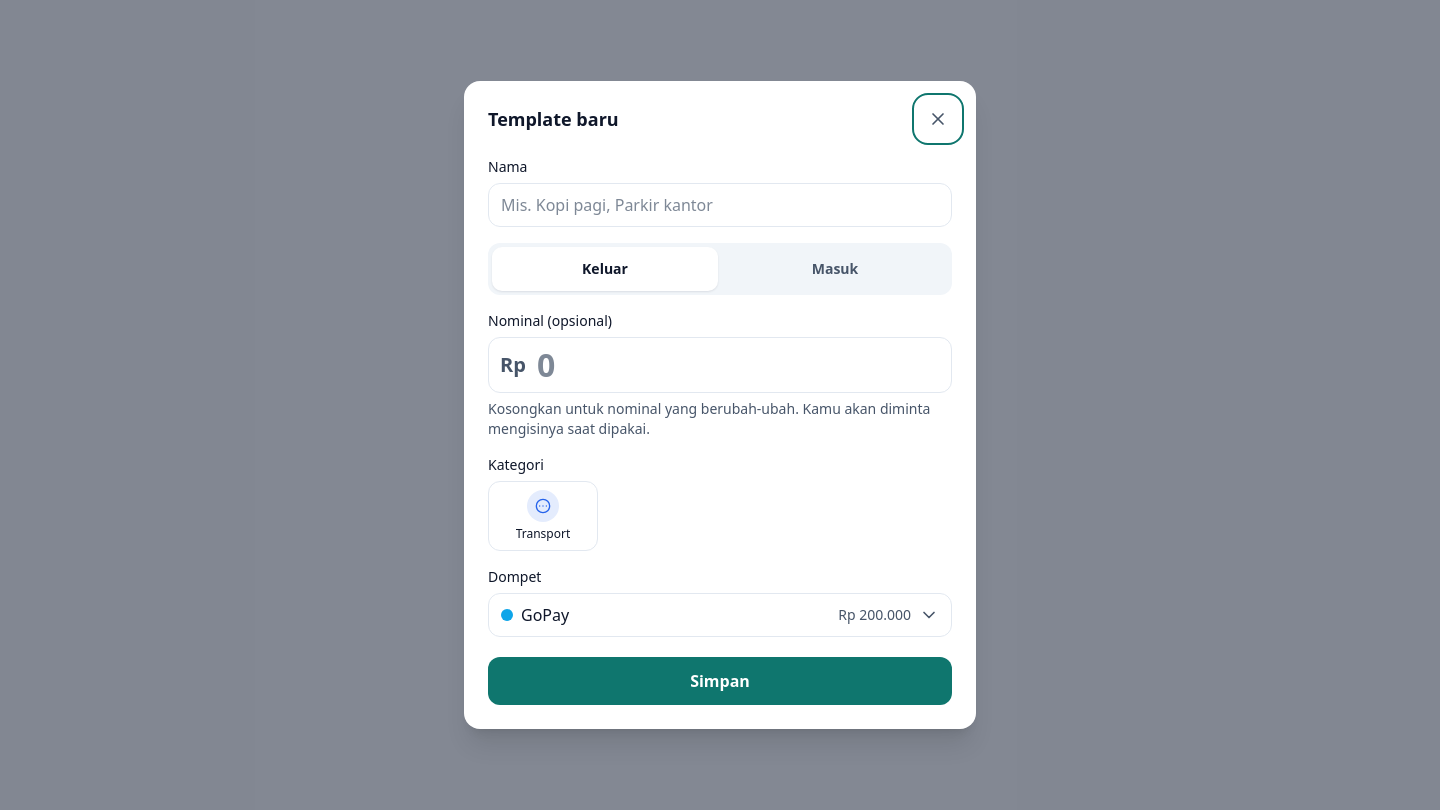
Scenario: TemplateSheet › nama wajib diisi
Check: the field labelled "Nama" is shown, box [488, 183, 952, 227]
What coordinates should you click on to do the following:
click the button "Simpan"
I would click on:
 (720, 681)
Its box is [488, 657, 952, 705].
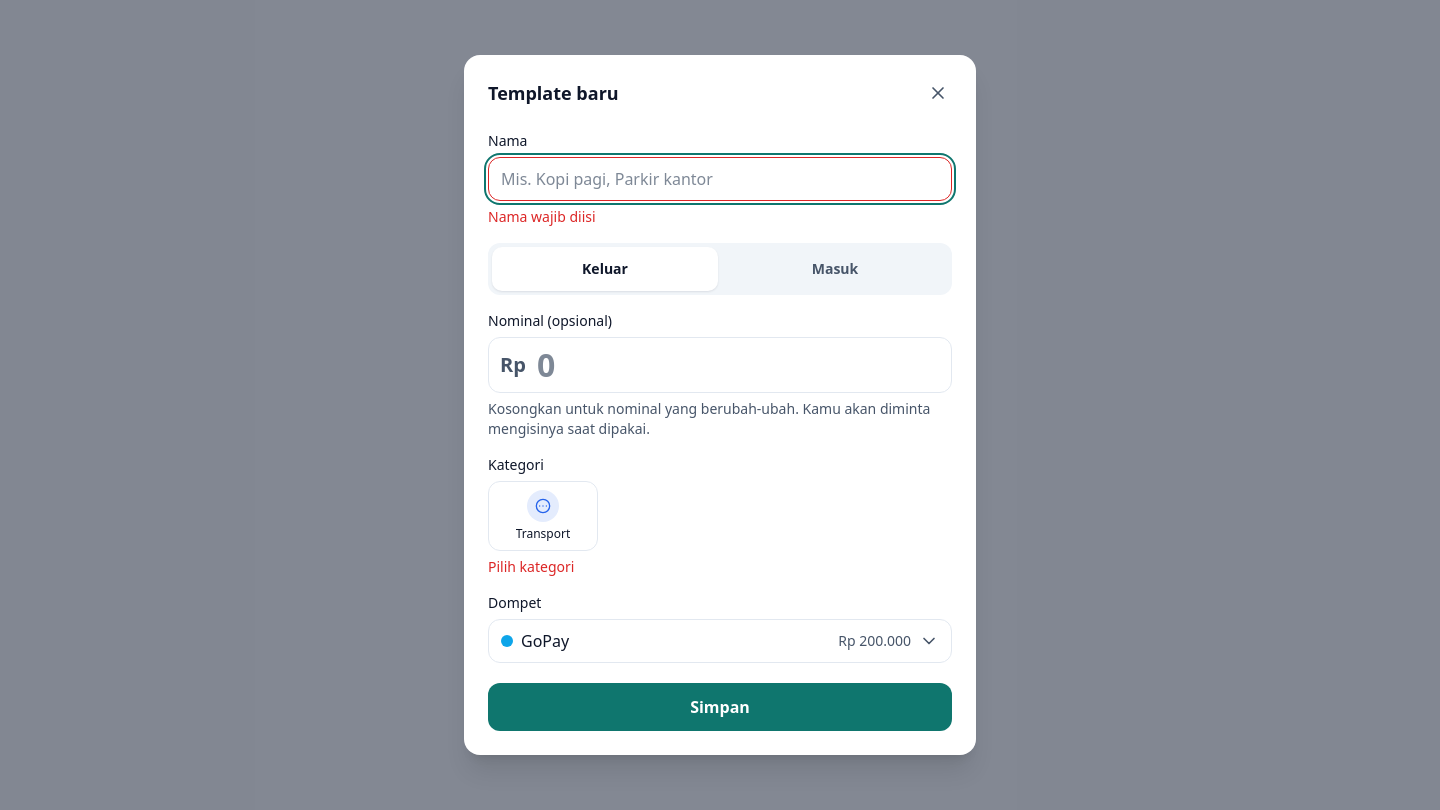
Check: the text "Nama wajib diisi" is shown, box [488, 207, 596, 226]
